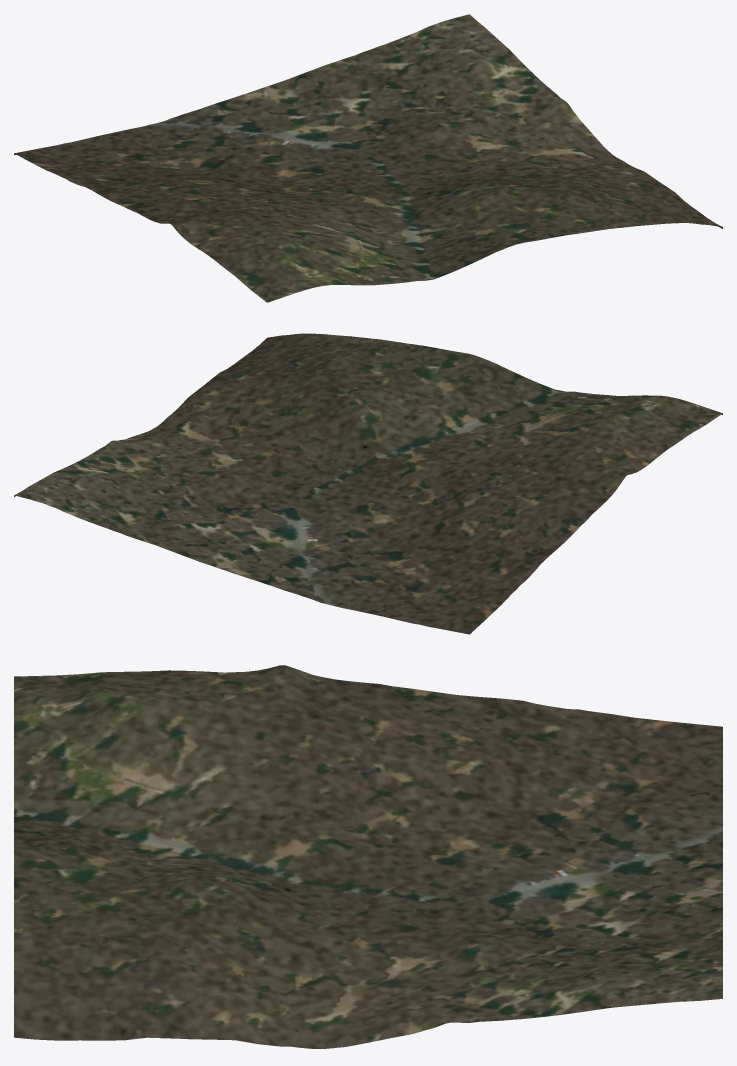
3 renders of one model, top to bottom at view 1: azimuth 30°, elevation 25°; view 2: azimuth 150°, elevation 25°; view 3: azimuth 270°, elevation 25°, orthographic. The views are drawn at different scales.
Size of the model in its own units: 250 by 30.79 by 241.
1 material, 1 textured.
